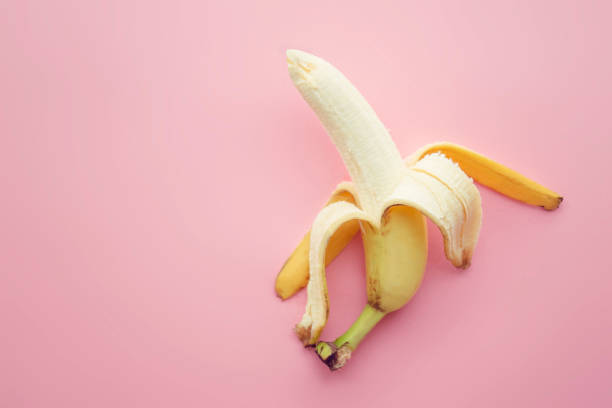banana: (245, 38, 574, 378)
